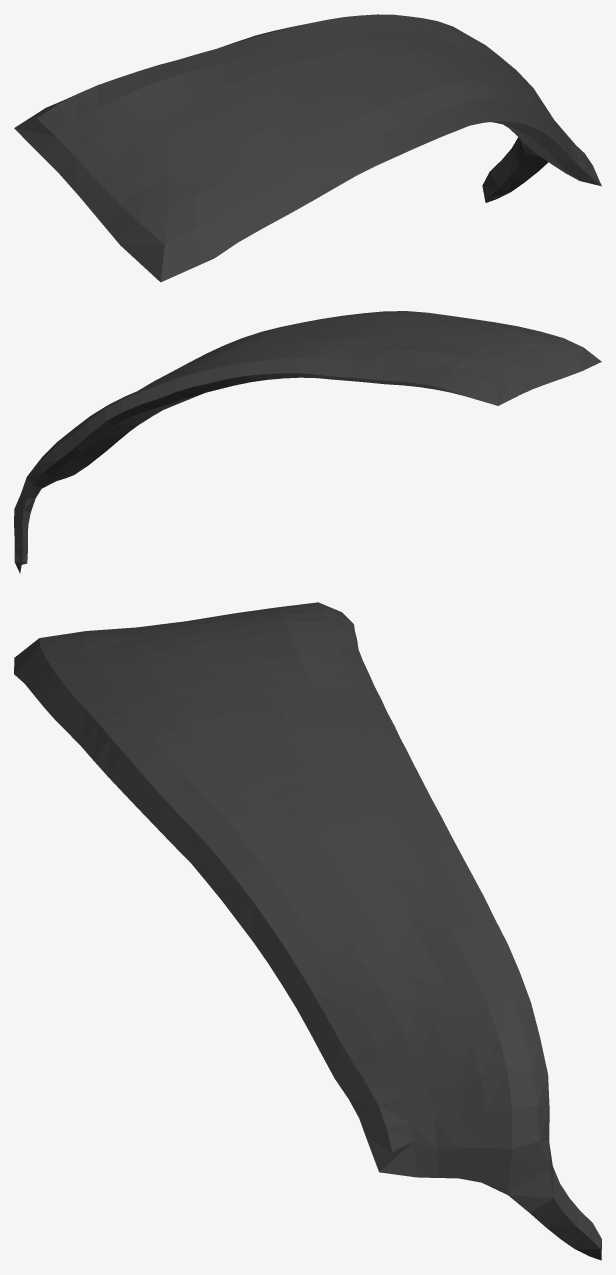
File: Interscutularis.glb
3 views of the same model, one above another, from view 1: azimuth 30°, elevation 25°; view 2: azimuth 150°, elevation 25°; view 3: azimuth 270°, elevation 25° (orthographic). The views are drawn at different scales.
Visible parts, largest first — view 1: Interscutularis; view 2: Interscutularis; view 3: Interscutularis.
Part boxes in pixels (x1,y1,x2,y2): Interscutularis: (14,14,601,282); Interscutularis: (14,311,601,573); Interscutularis: (14,602,601,1260).
Size of the model in its own units: 0.6808 by 0.349 by 0.5021.
1 material, 1 textured.
